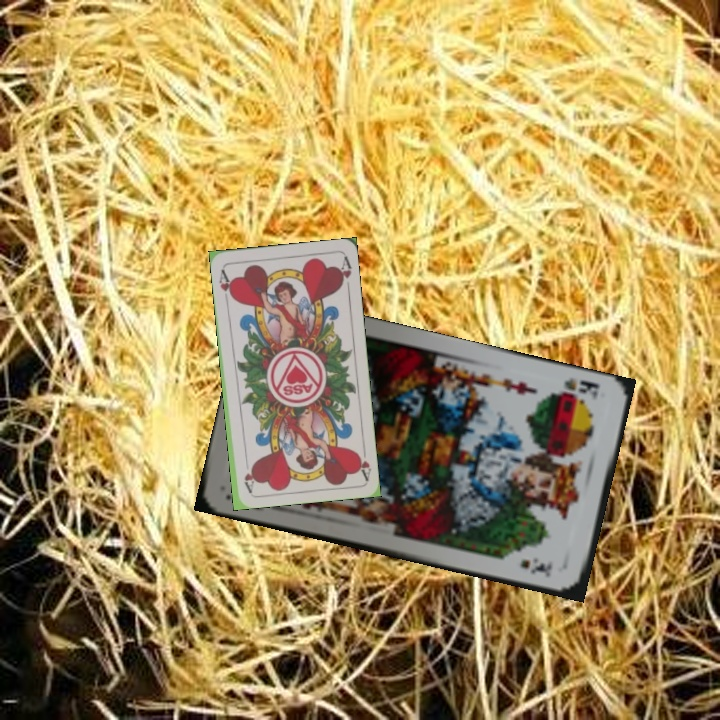HA: (352, 441, 374, 481), (215, 265, 236, 305)
SK: (560, 373, 601, 402)
